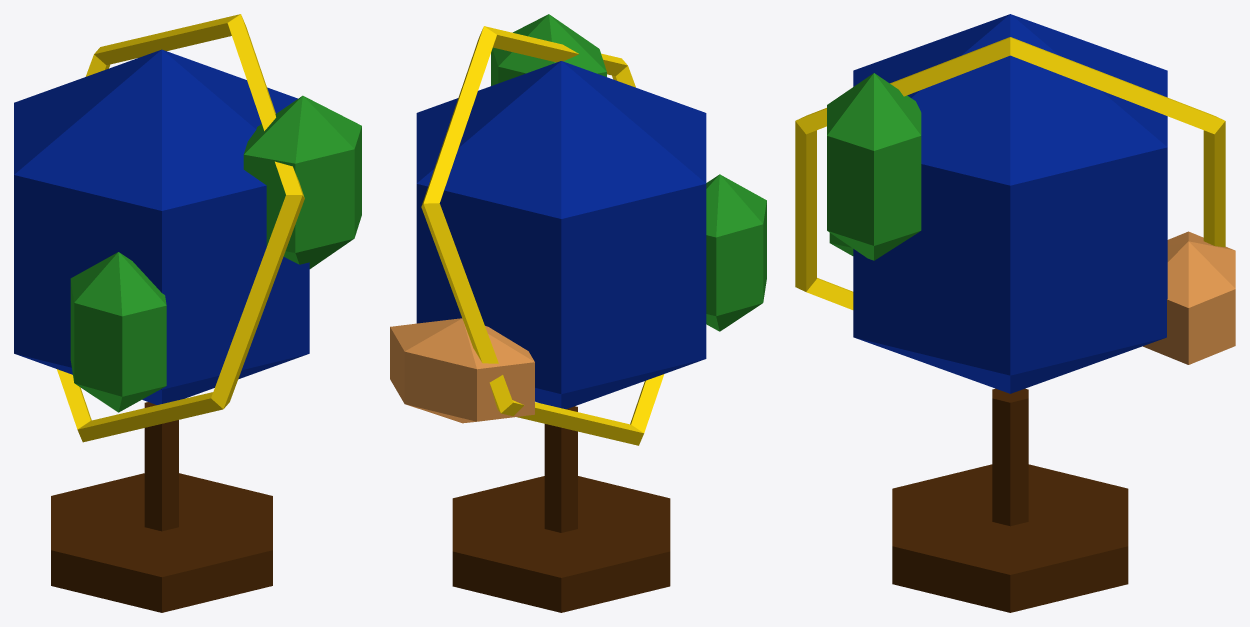
File: globe.glb
3 renders of one model, left to right at view 1: azimuth 30°, elevation 25°; view 2: azimuth 150°, elevation 25°; view 3: azimuth 270°, elevation 25°, orthographic. The views are drawn at different scales.
Visible parts, largest first — view 1: root; view 2: root; view 3: root.
Boxes of the visible parts, <box> form: root: <box>14,14,361,612</box>; root: <box>390,14,766,612</box>; root: <box>795,14,1235,612</box>.
Bounding box in the file's own units: 0.3464 × 0.5882 × 0.4202.
